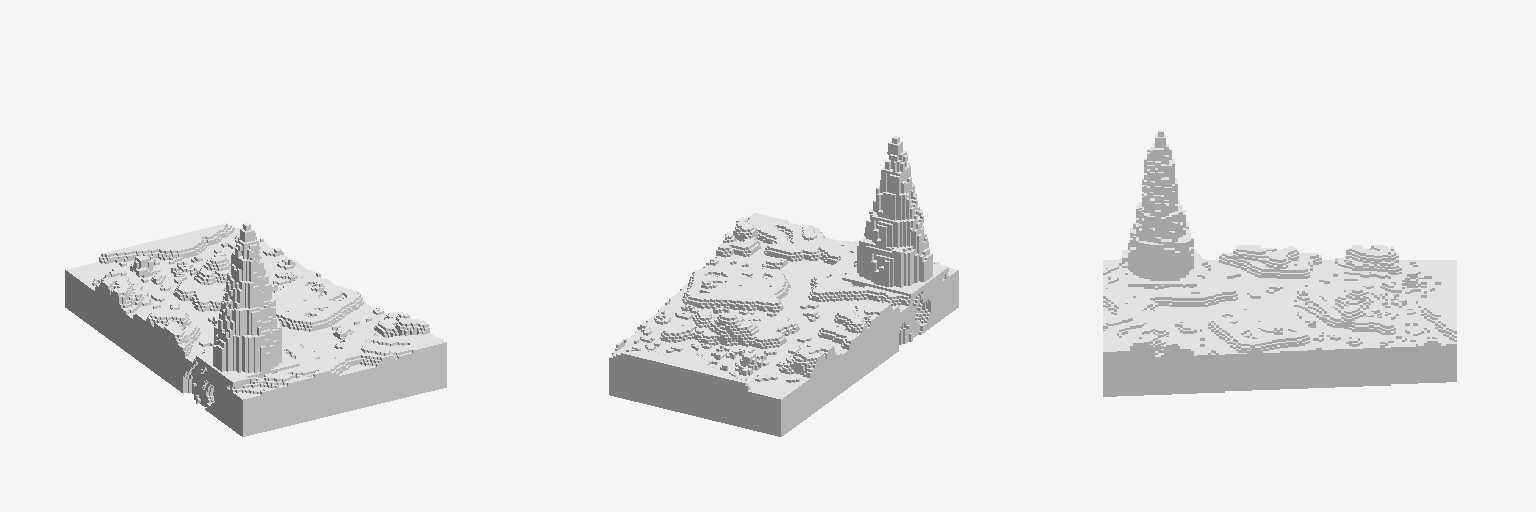
File: Lava_stuff-44.obj
3 renders of one model, left to right at view 1: azimuth 30°, elevation 25°; view 2: azimuth 150°, elevation 25°; view 3: azimuth 270°, elevation 25°, orthographic.
Parts seen in each view (by area): view 1: object 1; view 2: object 1; view 3: object 1.
Part boxes in pixels (x1,y1,x2,y2): object 1: (65,223,446,436); object 1: (609,136,958,436); object 1: (1103,130,1456,396).
Bounding box in the file's own units: 17 × 14.6 × 25.6.